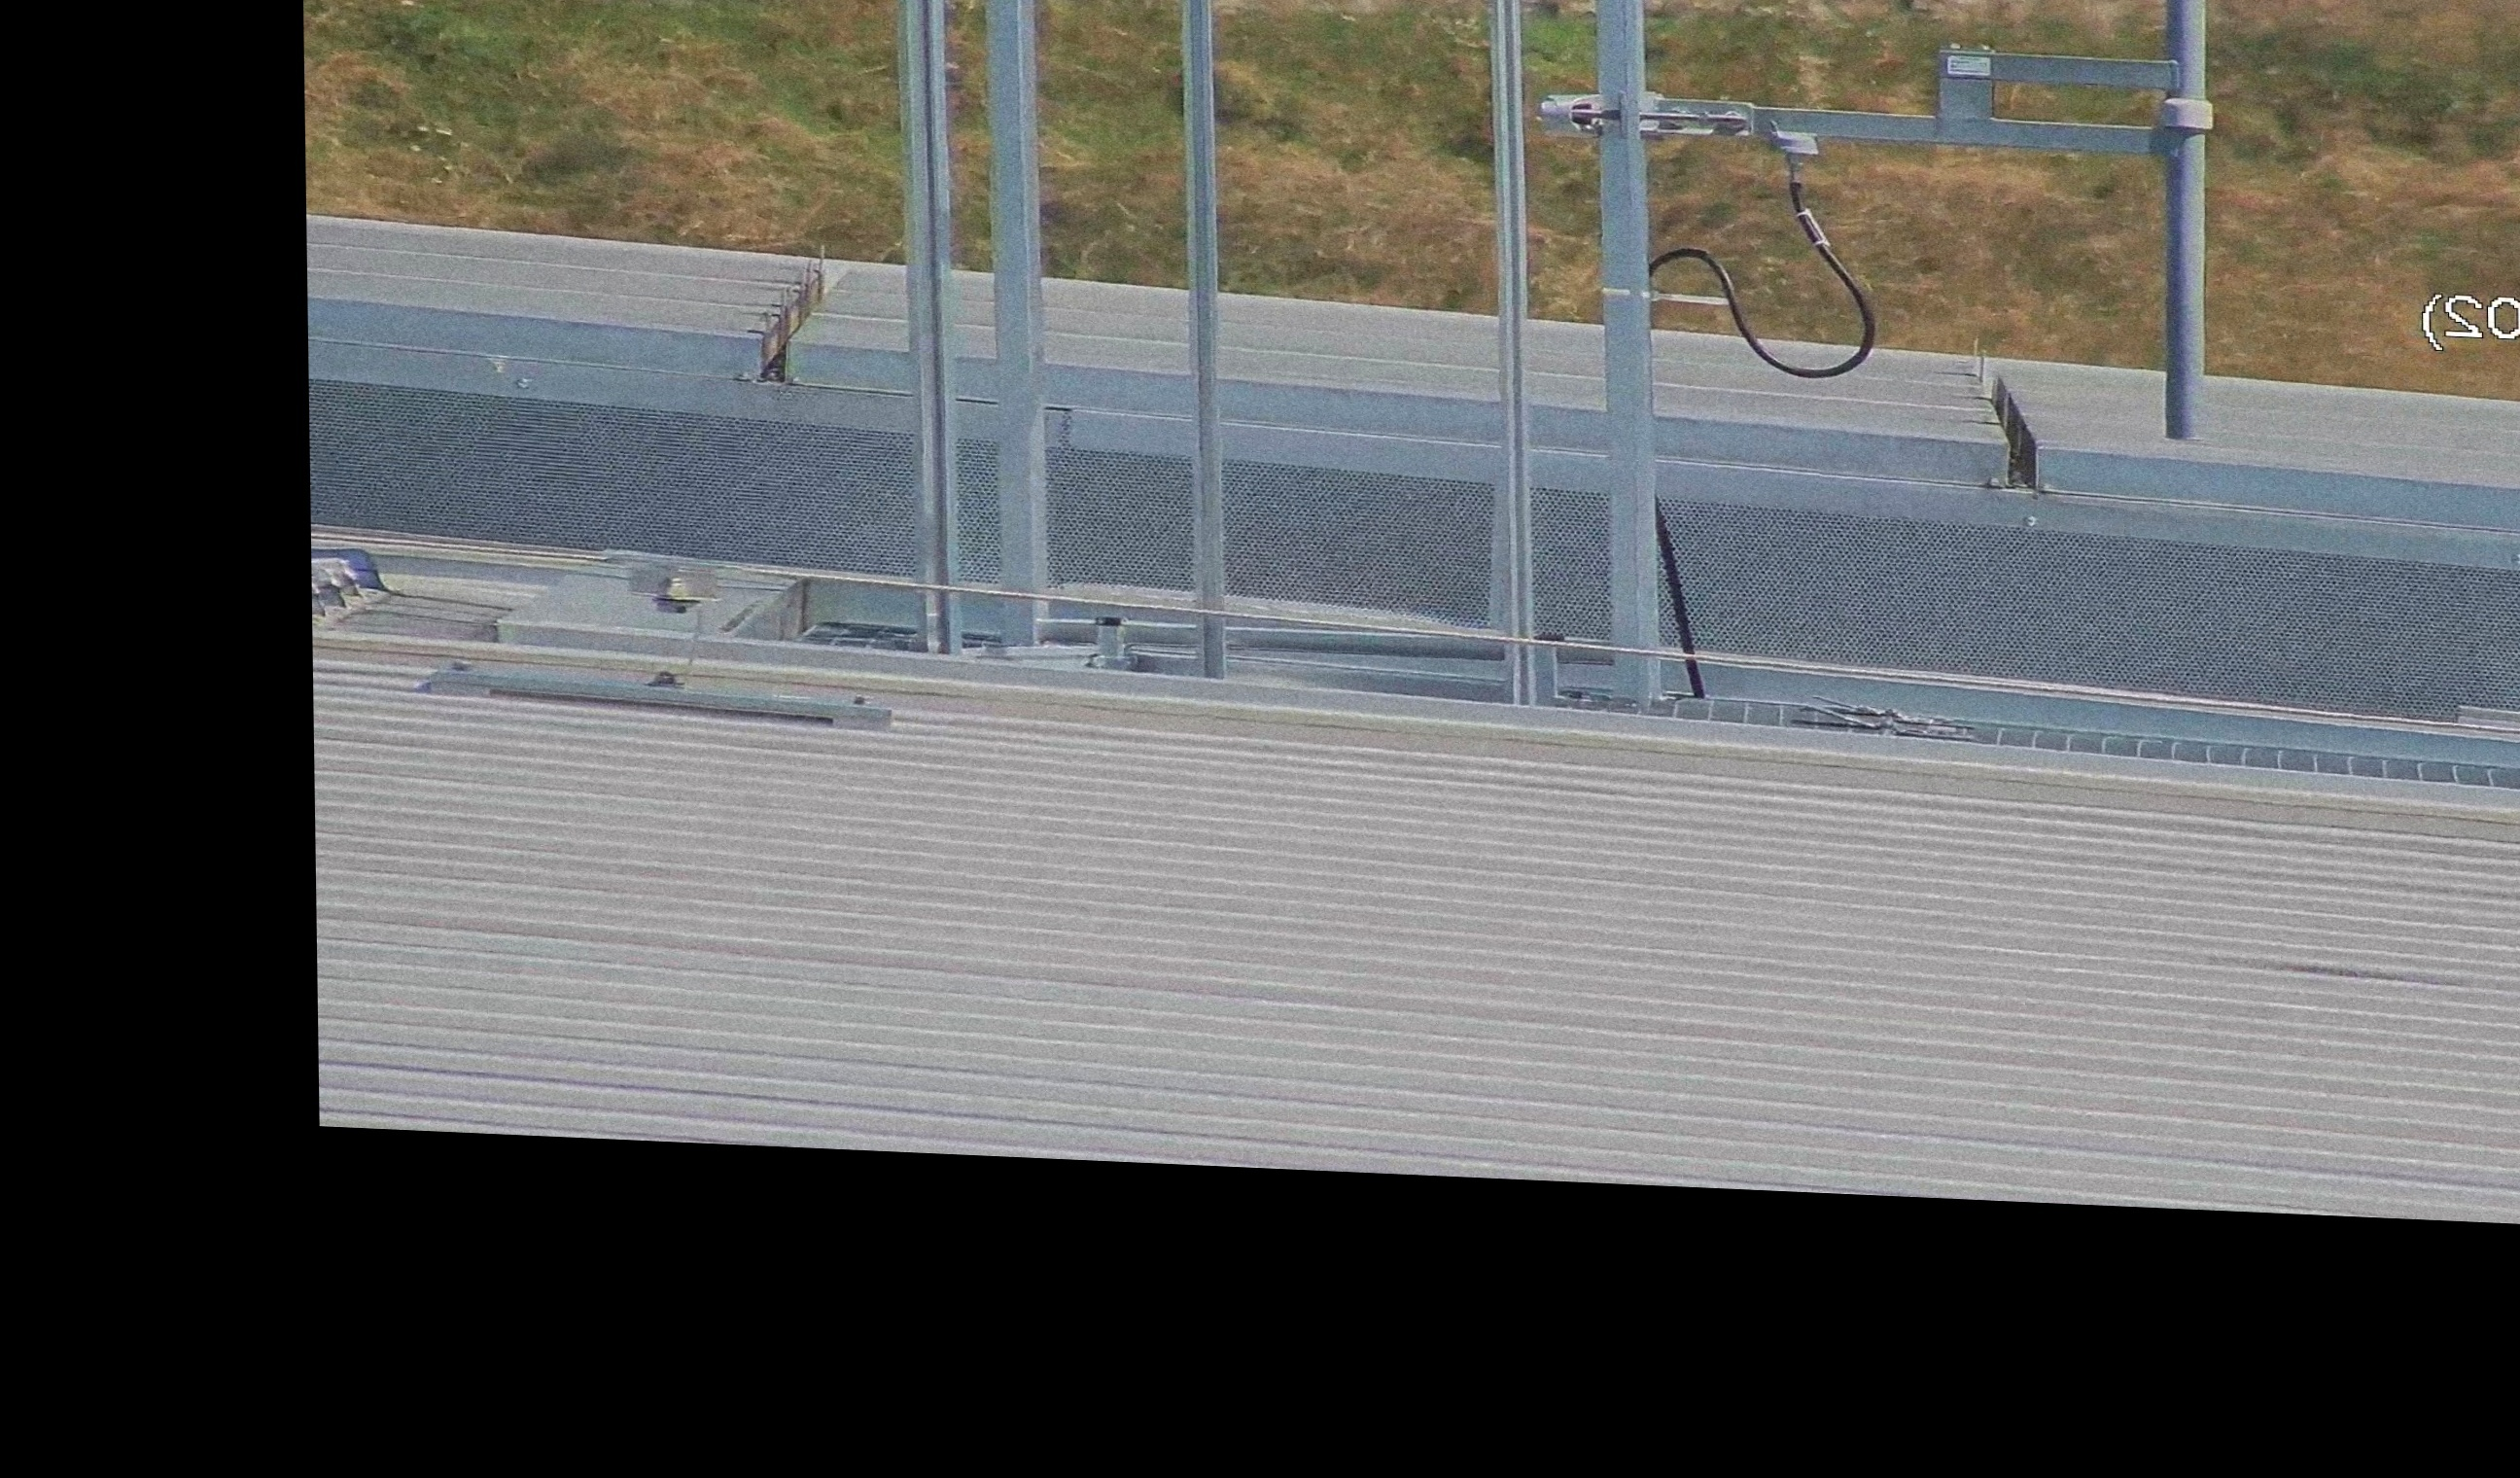Other: (1971, 359, 2065, 494)
